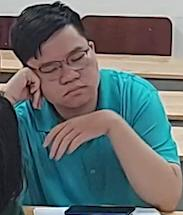Sleeping: (3, 1, 181, 208)
